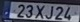2: (53, 5, 64, 20), (16, 3, 25, 18)
3: (24, 3, 33, 18)
4: (63, 5, 72, 20)
J: (44, 5, 54, 19)
X: (34, 4, 45, 19)
